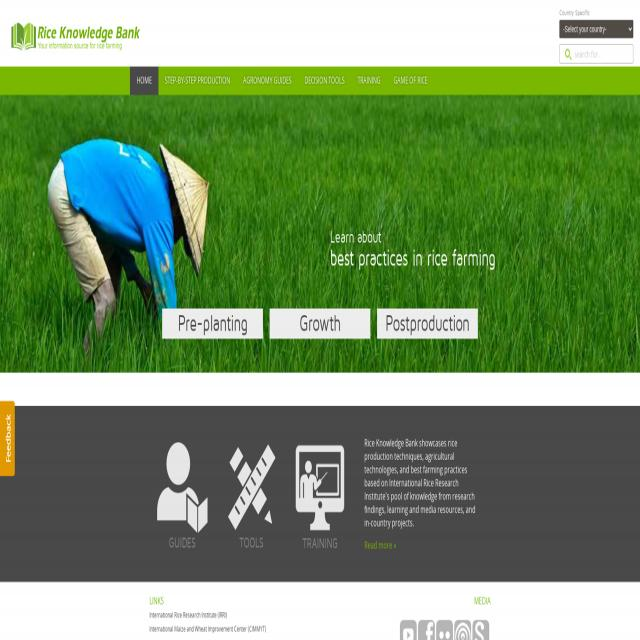button: (0, 95, 640, 372), (157, 442, 208, 533), (295, 442, 345, 534), (226, 442, 276, 533), (10, 22, 142, 56), (162, 308, 263, 339), (377, 308, 478, 339), (270, 308, 370, 339), (158, 66, 237, 95), (236, 66, 298, 95), (298, 66, 351, 95), (387, 66, 434, 95), (0, 400, 15, 477), (351, 66, 387, 95), (130, 66, 158, 95)
field: (560, 44, 633, 64)
